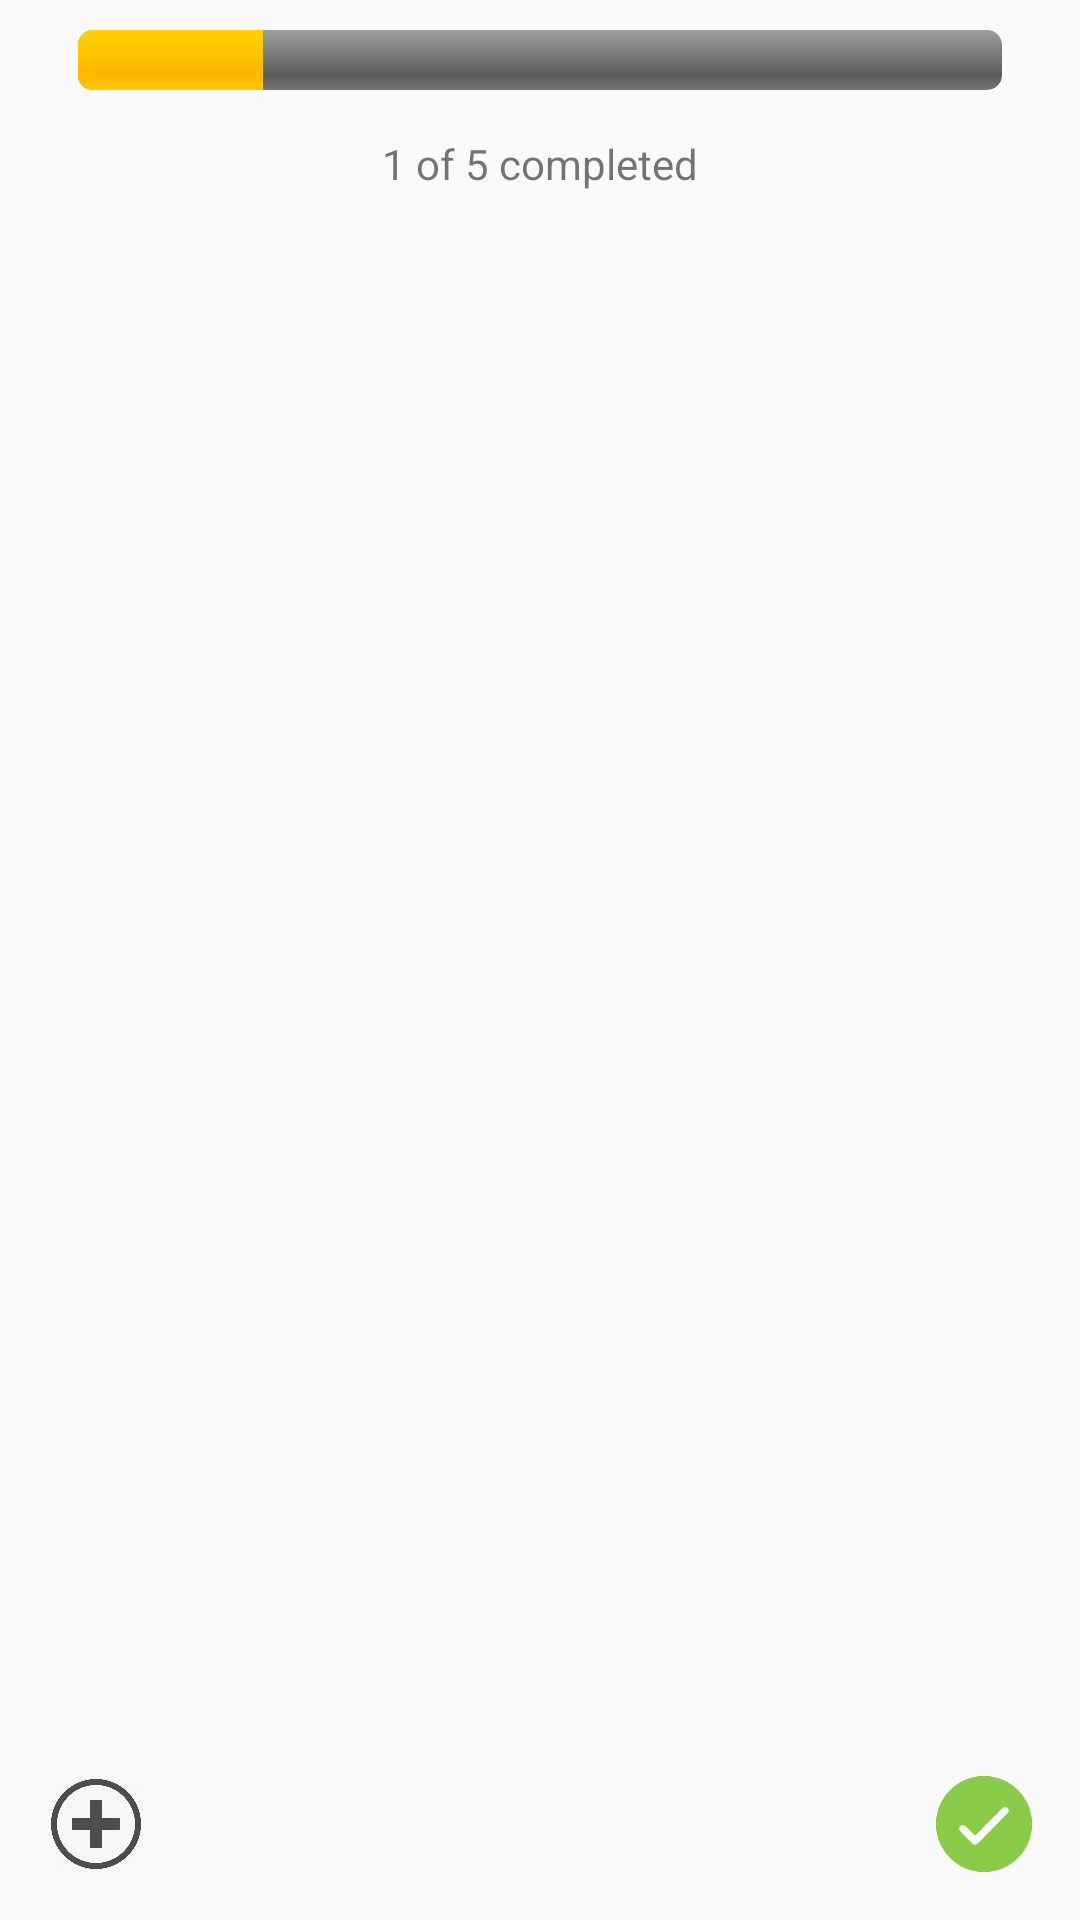

Icon click points for this 1080 x 1920 phone screenshot, format (x=x, y=y):
add: (x=96, y=1824)
complete: (x=984, y=1824)
